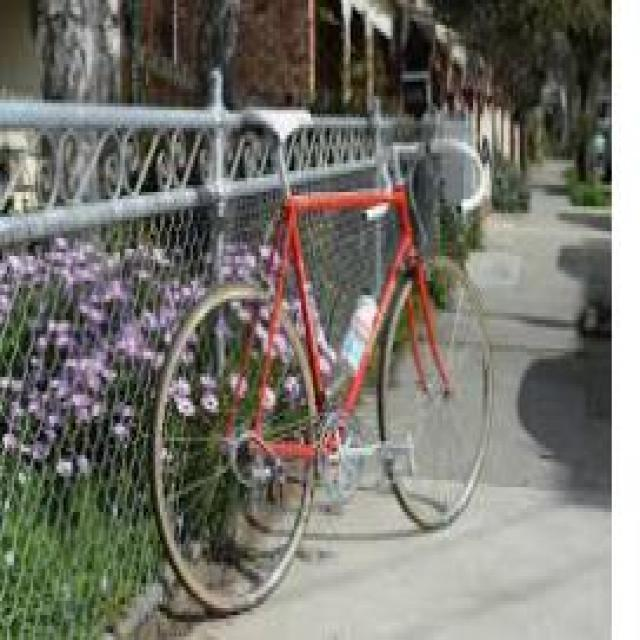bicycle: (149, 154, 495, 616)
